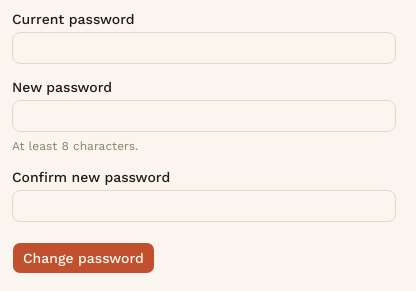
<PasswordForm /> — validation and submission › submits current/new password and shows a success confirmation, clearing the fields
Type "OldPassw0rd!" into the password field labelled "Current password". click: (204, 48)
box: [12,32,396,64]
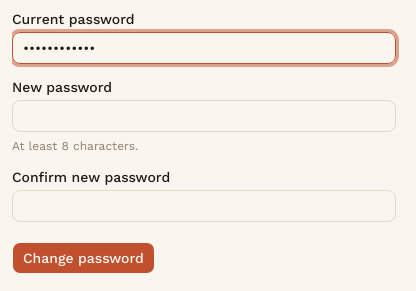
Type "NewPassw0rd!" into the password field labelled "New password". click: (204, 116)
box: [12,100,396,132]
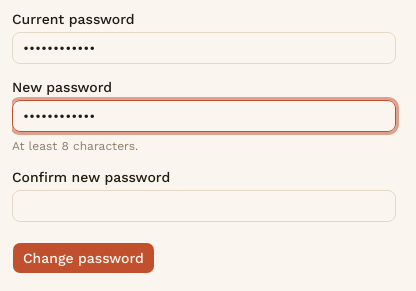
Type "NewPassw0rd!" into the password field labelled "Confirm new password". click: (204, 206)
box: [12,190,396,222]
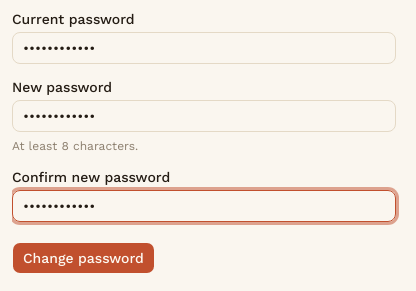
Click the button "Change password". click: (83, 258)
box: [12,242,155,274]
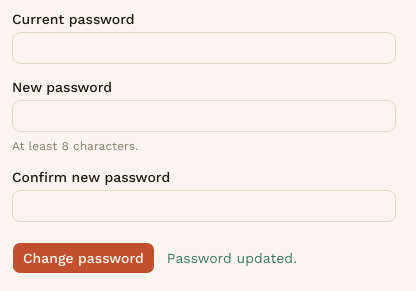
expect the text "Password updated." is shown: met, box [167,248,297,268]
expect the password field labelled "Current password" is empty: met, box [12,32,396,64]
